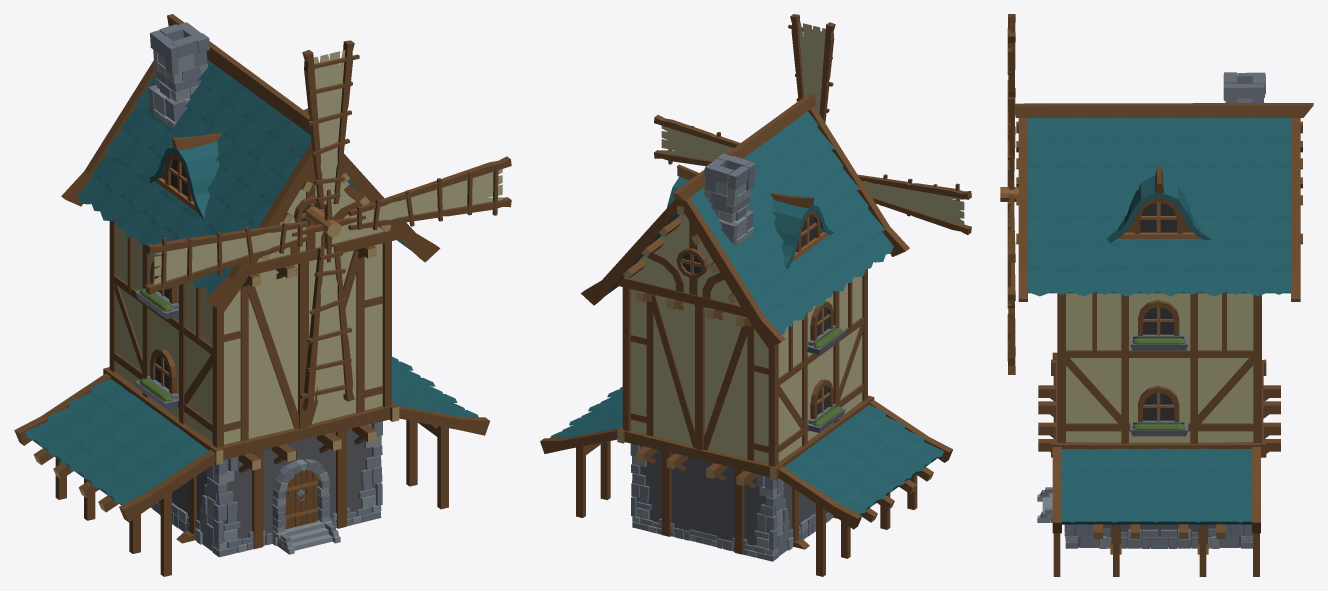
Rendered from windmill.glb.
3 views of the same model, side by side, from view 1: azimuth 30°, elevation 25°; view 2: azimuth 150°, elevation 25°; view 3: azimuth 270°, elevation 25° (orthographic). The views are drawn at different scales.
Parts seen in each view (by area): view 1: Mill_Blades; view 2: Mill_Blades; view 3: Mill_Blades.
Boxes of the visible parts, x1=… form: Mill_Blades: x1=14, y1=14, x2=511, y2=576; Mill_Blades: x1=540, y1=14, x2=971, y2=576; Mill_Blades: x1=1000, y1=14, x2=1313, y2=576.
Size of the model in its own units: 9 by 12 by 7.
